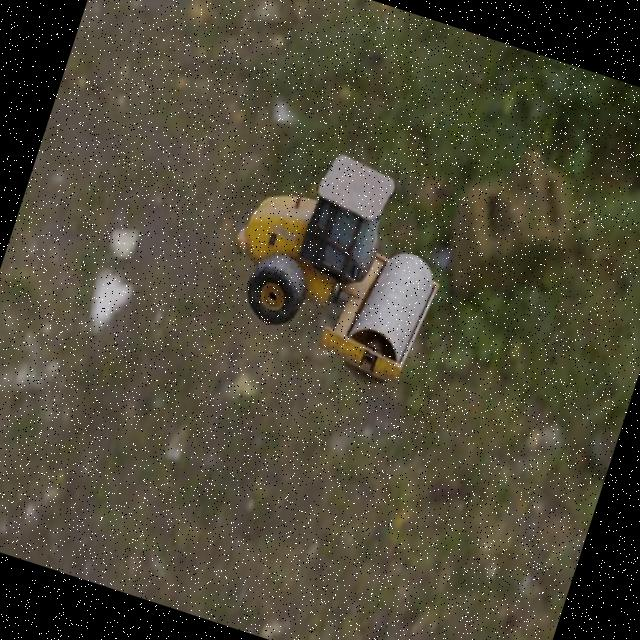Roller: (206, 130, 468, 397)
